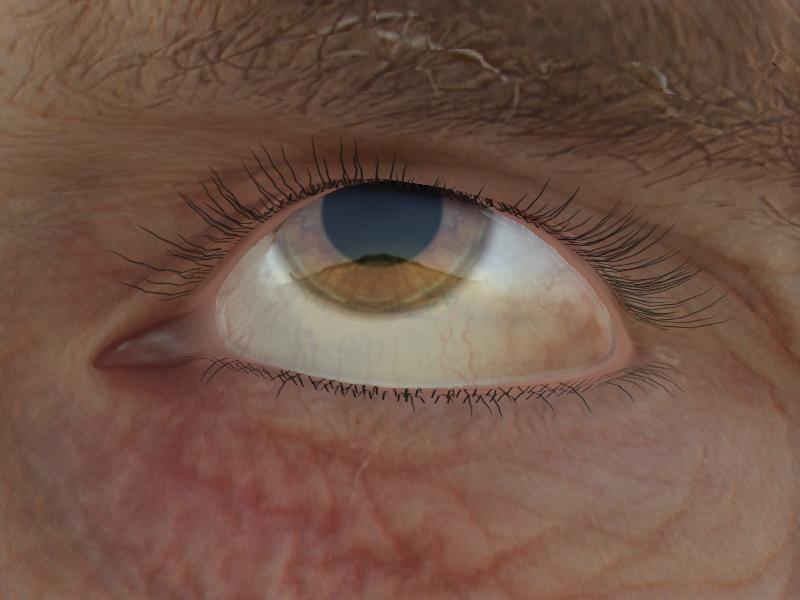eye: (276, 181, 488, 314)
